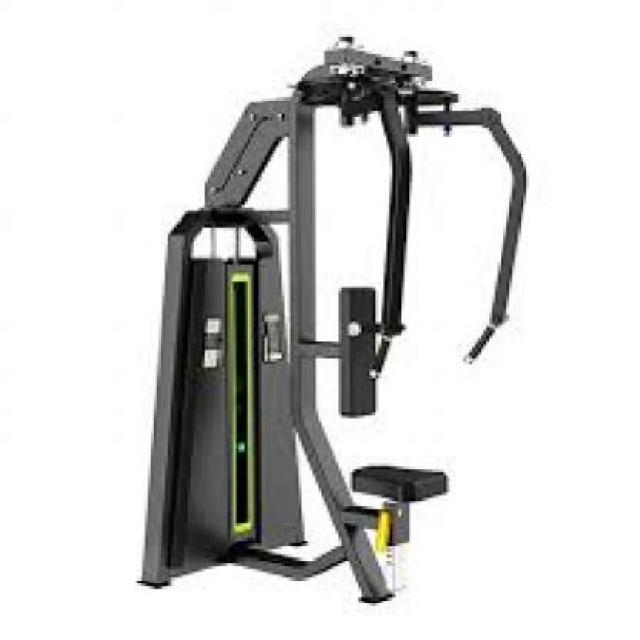chest fly machine: (98, 27, 546, 640)
